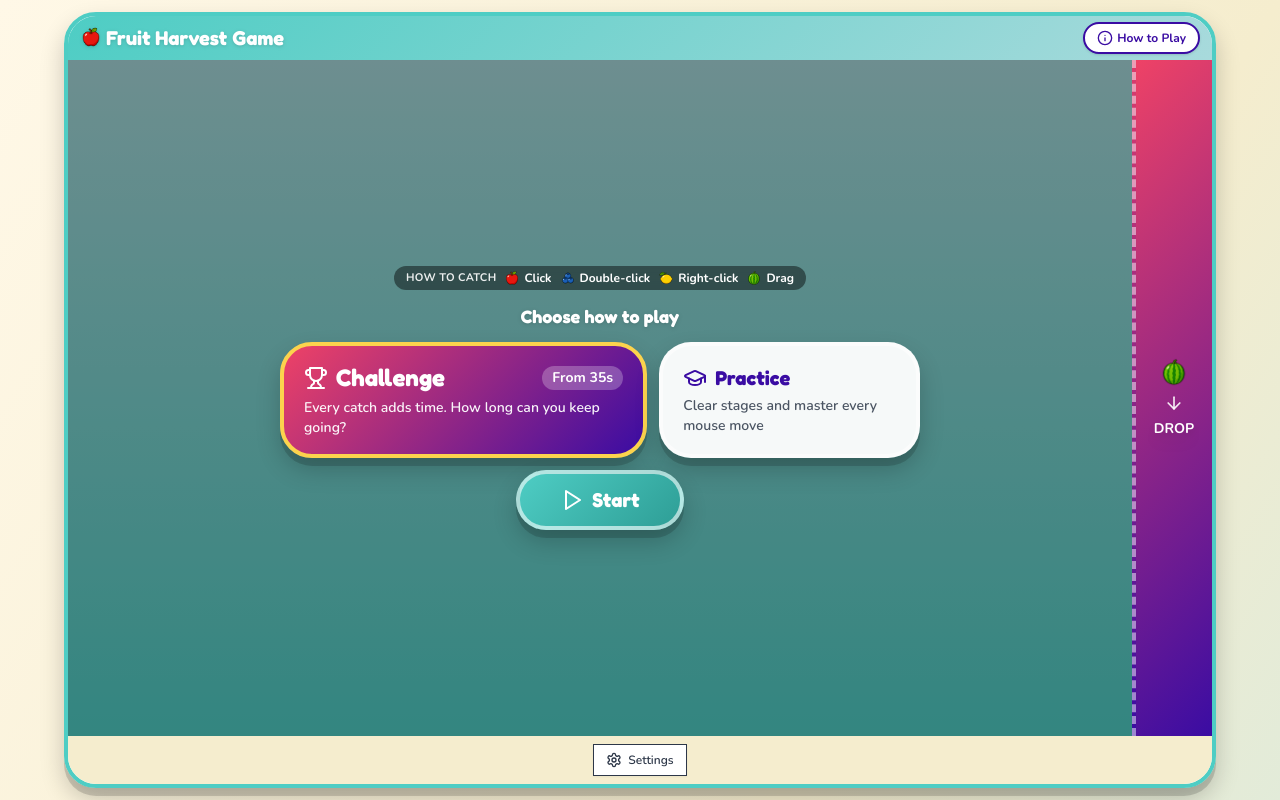
Test: Internationalization (i18n) › UI Text Translations › should translate game controls in English
This screenshot has width=1280, height=800.
Expected: the button "Start" is shown, [516, 470, 684, 530]
Expected: the button "How to Play" is shown, [1083, 22, 1200, 54]
What coordinates should you click on to do the following:
click the button "Settings"
I would click on:
 (640, 760)
Its box is [593, 744, 687, 776].
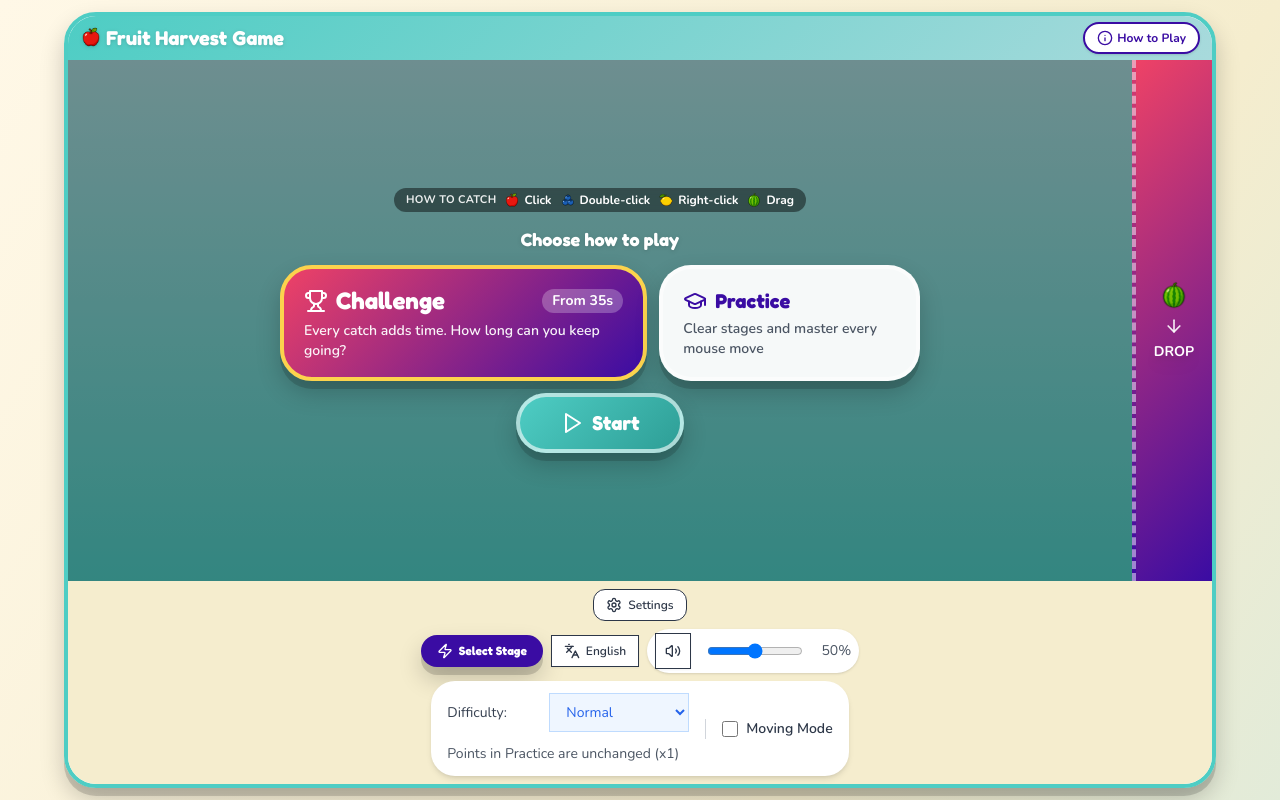
Result: the text "Moving Mode" is shown at [746, 718, 833, 738]
